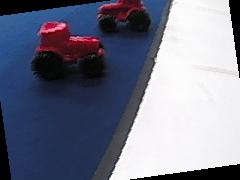Tracktor: (31, 16, 108, 79), (94, 0, 152, 33)
